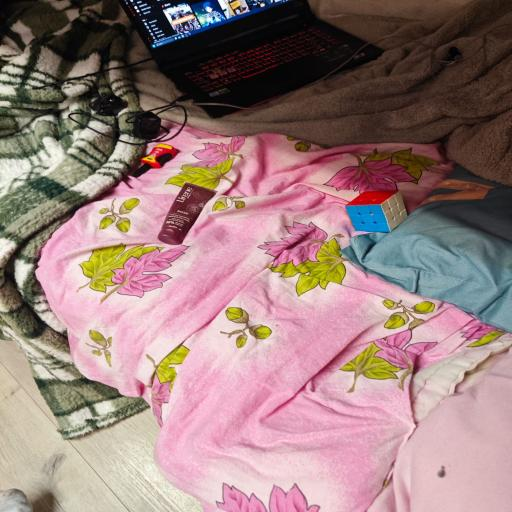Hand Cream: (156, 181, 218, 245)
Rubiks Cube: (345, 188, 407, 234)
Super Glue: (130, 138, 178, 174)
